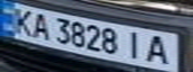2: (84, 21, 103, 53)
3: (48, 16, 72, 46)
8: (100, 25, 121, 56), (66, 19, 87, 49)
A: (142, 33, 175, 65), (27, 10, 54, 40)
I: (121, 29, 148, 61)
K: (6, 7, 39, 36)
